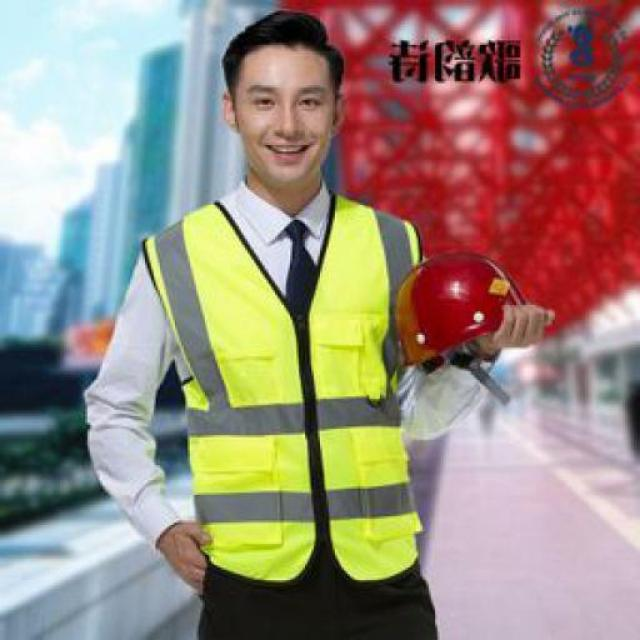vest: (152, 217, 432, 586)
